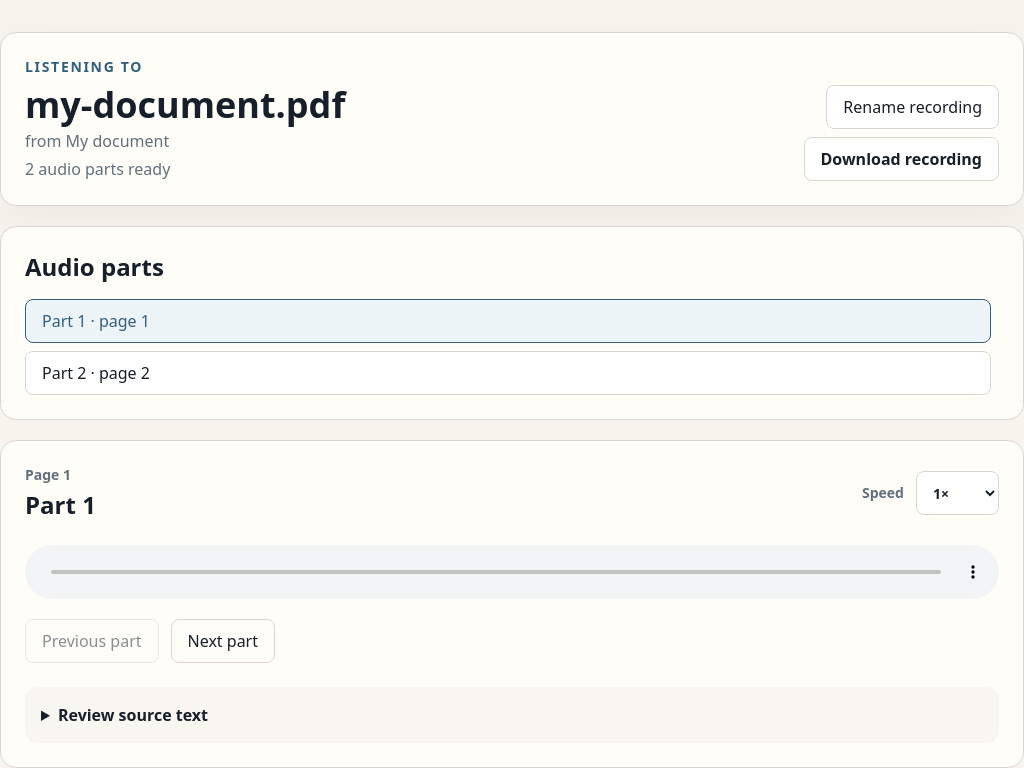
Test: document audio player › moves between ready audio segments
Check: the heading "Part 1" is shown, box [25, 489, 96, 521]
Step 1. Click the button "Next part" → (223,641), box [170, 619, 275, 663]
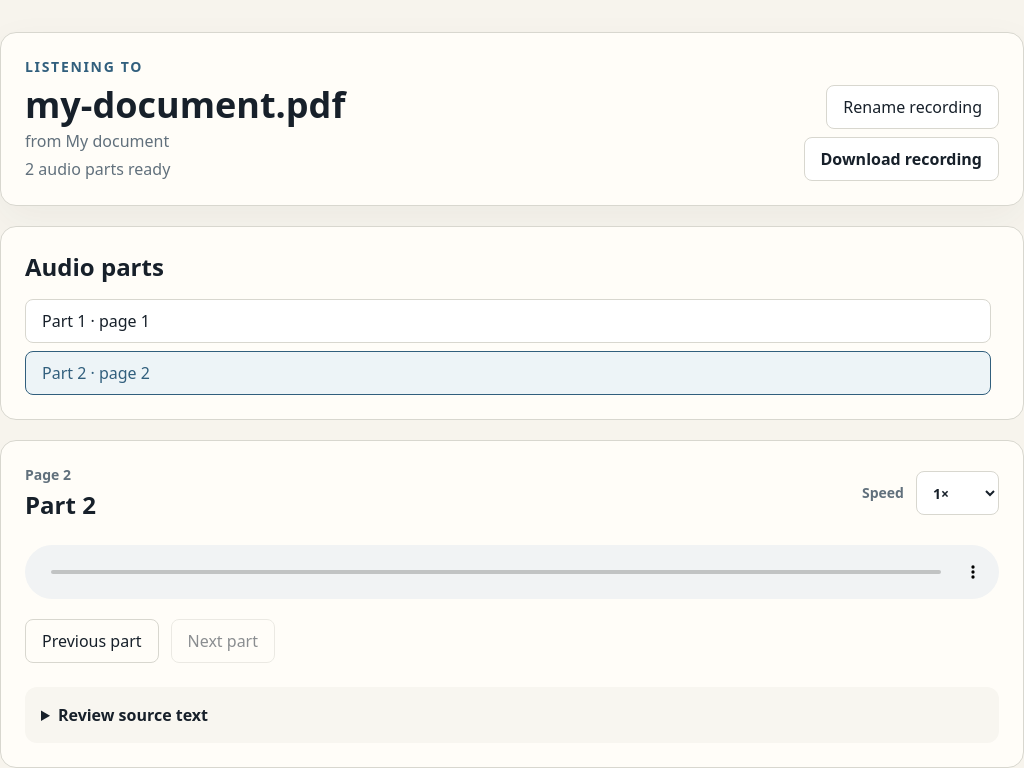
Check: the heading "Part 2" is shown, box [25, 489, 96, 521]
